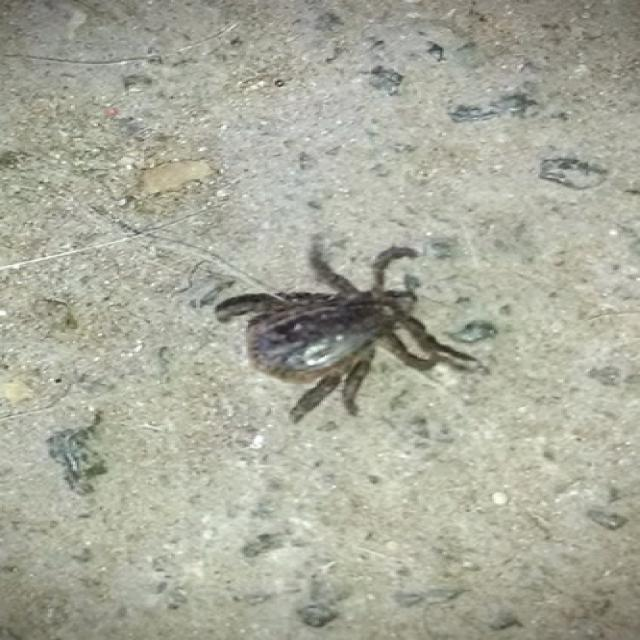Rhipicephalus Sanguineus-M: (213, 248, 488, 422)
